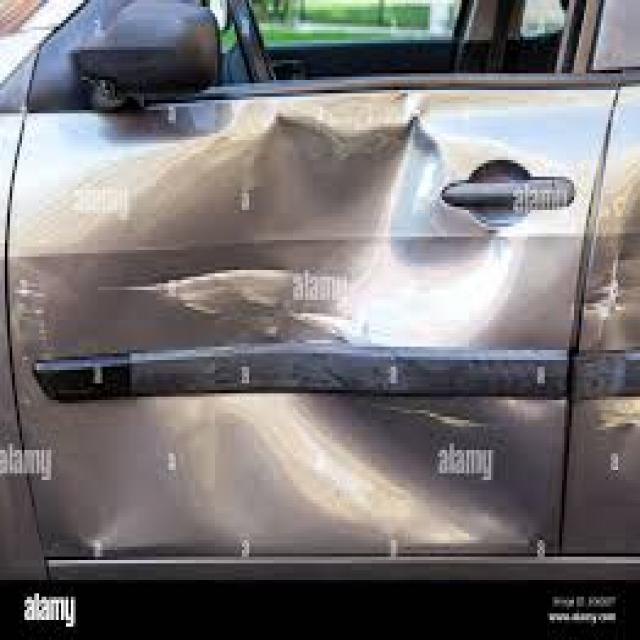dent-or-scratch: (102, 114, 526, 546)
